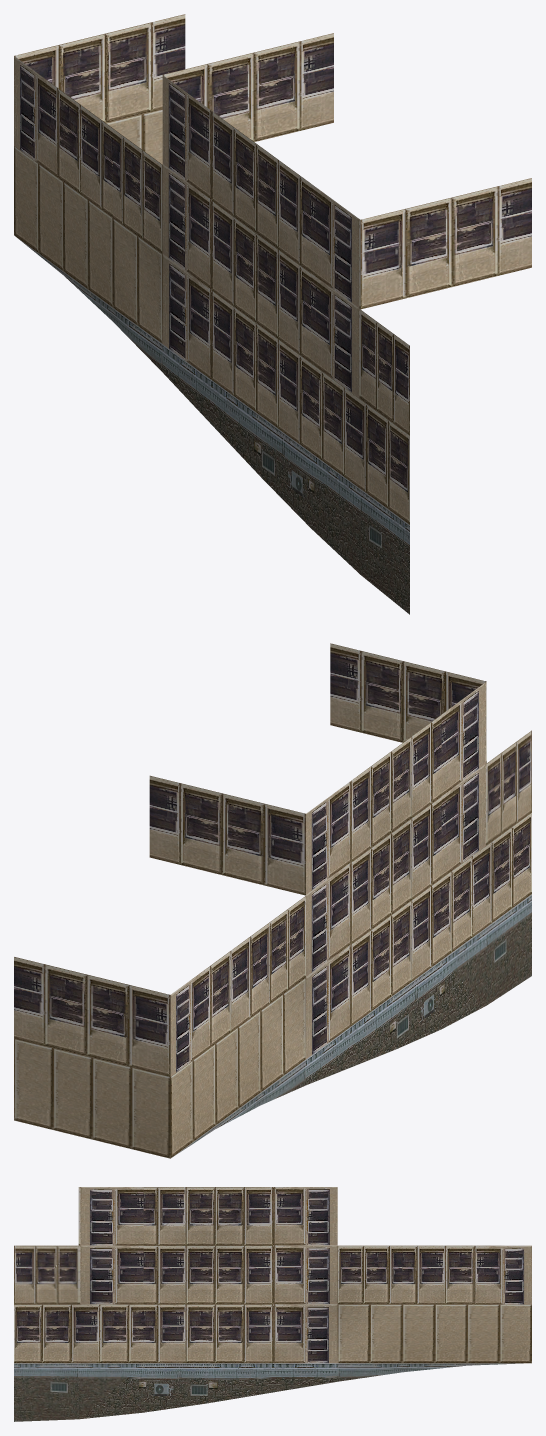
File: M2Zone3_SlopeBilding1A.glb
The picture shows the model from 3 angles, top to bottom: view 1: azimuth 30°, elevation 25°; view 2: azimuth 150°, elevation 25°; view 3: azimuth 270°, elevation 25°; orthographic projection. The views are drawn at different scales.
Visible parts, largest first — view 1: M2ZONE3_SLOPEBILDING1A; view 2: M2ZONE3_SLOPEBILDING1A; view 3: M2ZONE3_SLOPEBILDING1A.
Part boxes in pixels (x1,y1,x2,y2): M2ZONE3_SLOPEBILDING1A: [14, 14, 531, 614]; M2ZONE3_SLOPEBILDING1A: [14, 643, 531, 1158]; M2ZONE3_SLOPEBILDING1A: [14, 1187, 531, 1421].
Size of the model in its own units: 8 by 16 by 32.
4 materials, 4 textured.
